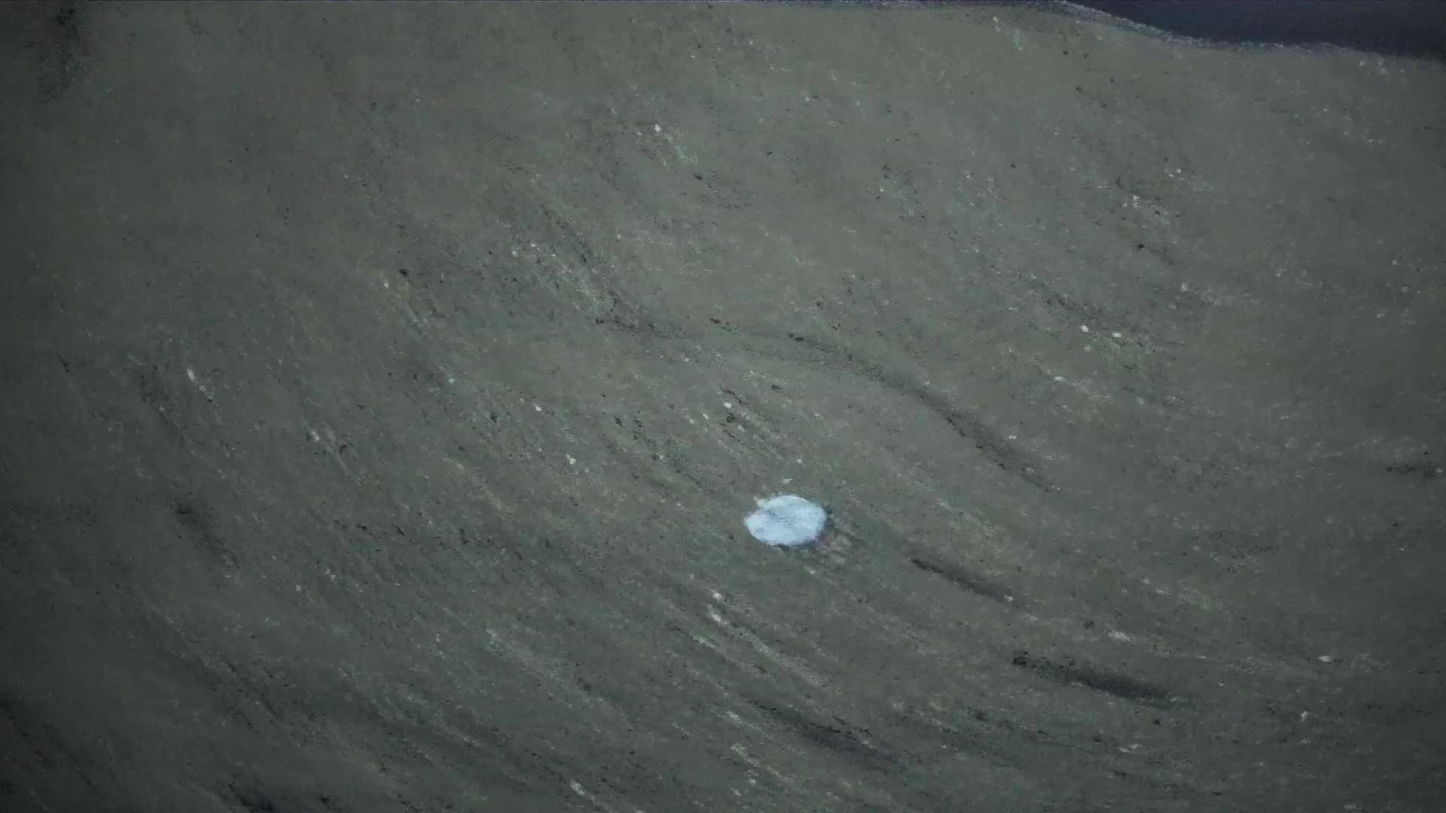Target: (740, 485, 832, 556)
